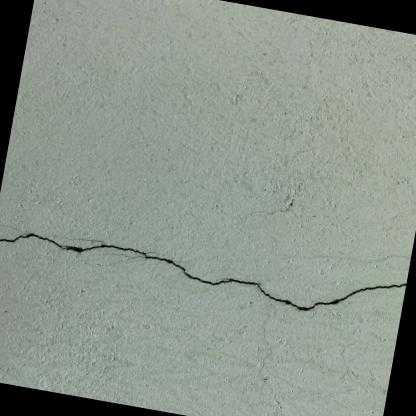crack: (0, 231, 406, 311)
